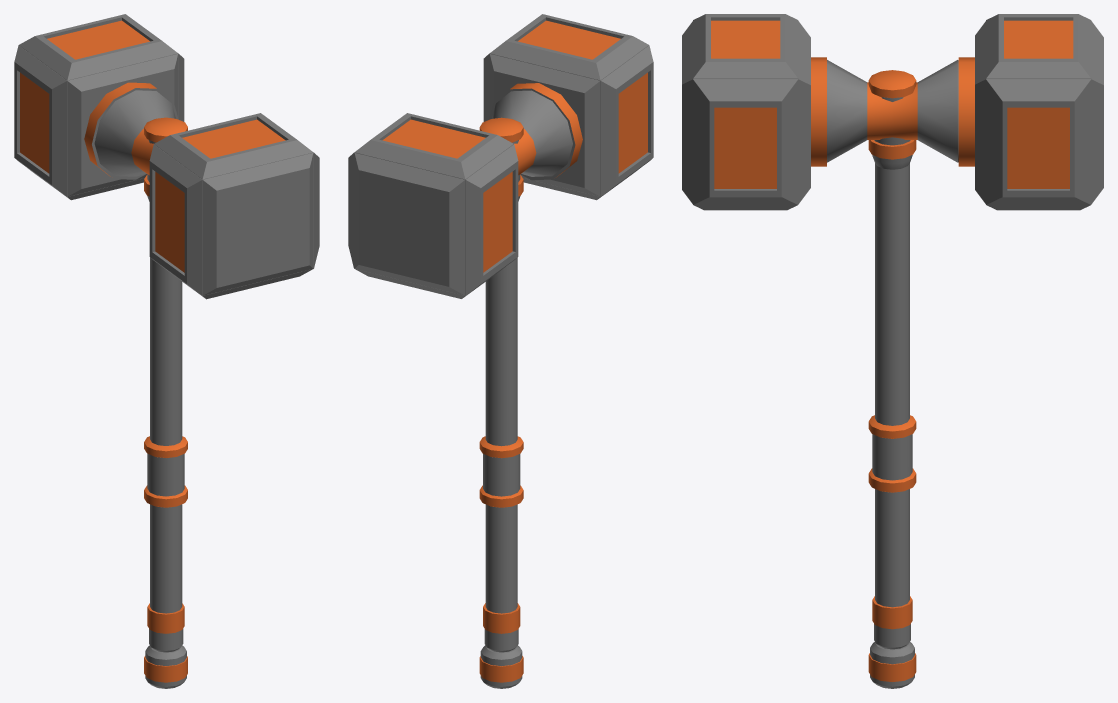
3 views of the same model, side by side, from view 1: azimuth 30°, elevation 25°; view 2: azimuth 150°, elevation 25°; view 3: azimuth 270°, elevation 25° (orthographic). The views are drawn at different scales.
Visible parts, largest first — view 1: Cylinder.011; view 2: Cylinder.011; view 3: Cylinder.011.
Part boxes in pixels (x1=…): Cylinder.011: x1=14, y1=14, x2=319, y2=688; Cylinder.011: x1=348, y1=14, x2=653, y2=688; Cylinder.011: x1=682, y1=14, x2=1103, y2=688.
Size of the model in its own units: 161 by 683 by 404.
